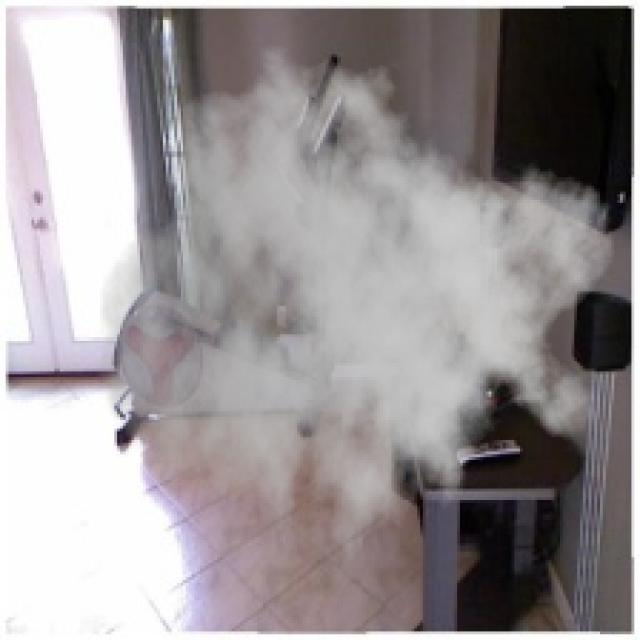smoke: (97, 31, 617, 588)
